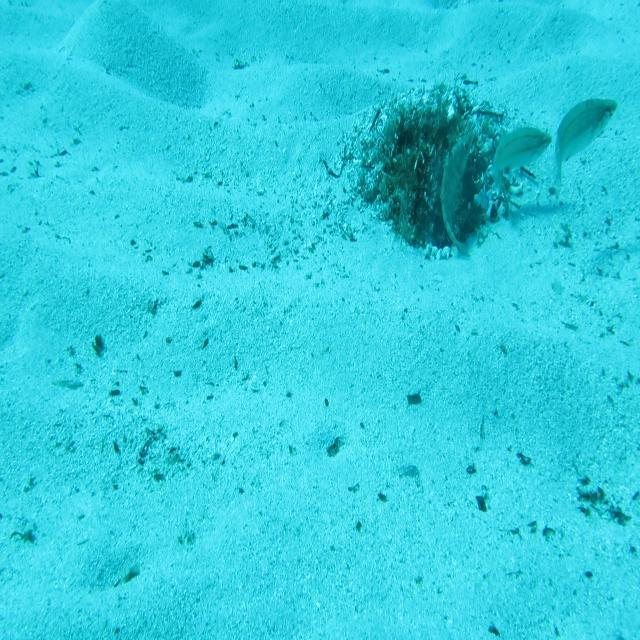LF: (440, 128, 476, 261)
core_nest: (406, 122, 446, 157)
female: (548, 95, 618, 202), (490, 124, 552, 217)
nest: (344, 76, 525, 266)
